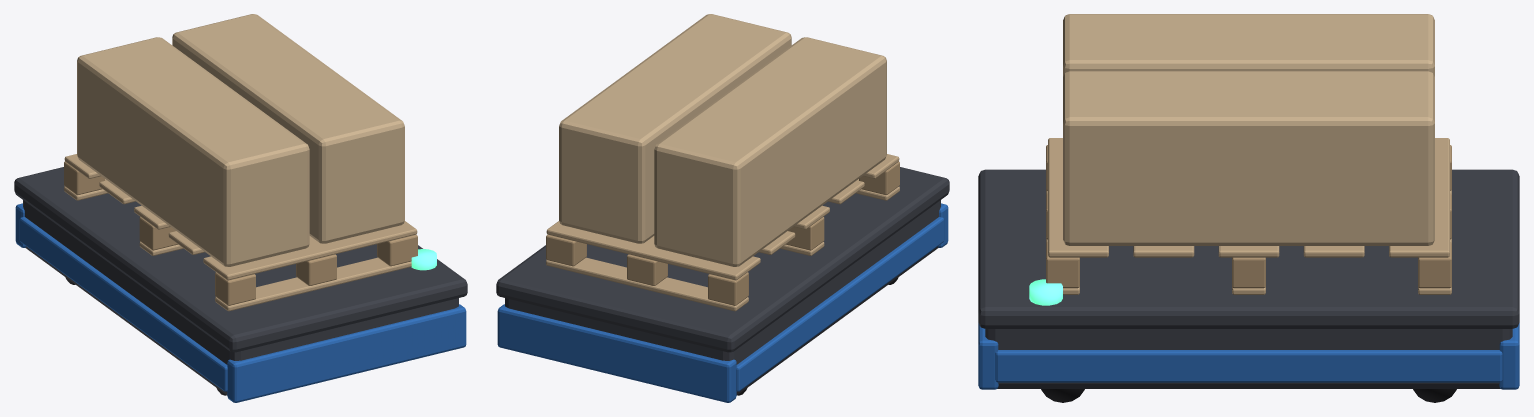
File: agv.glb
3 renders of one model, left to right at view 1: azimuth 30°, elevation 25°; view 2: azimuth 150°, elevation 25°; view 3: azimuth 270°, elevation 25°, orthographic. The views are drawn at different scales.
Parts seen in each view (by area): view 1: Cube; view 2: Cube; view 3: Cube.
Boxes of the visible parts, <box> form: Cube: <box>14,14,467,402</box>; Cube: <box>496,14,949,402</box>; Cube: <box>978,14,1519,402</box>.
Size of the model in its own units: 1 by 0.914 by 1.6.
